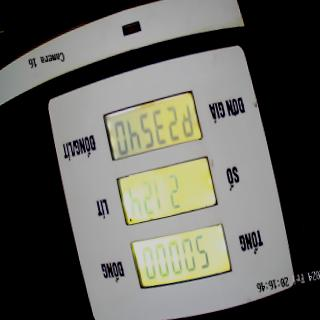screen: (99, 86, 235, 298)
